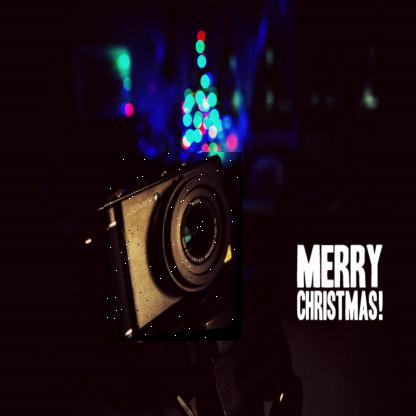Camera: (105, 154, 244, 344)
